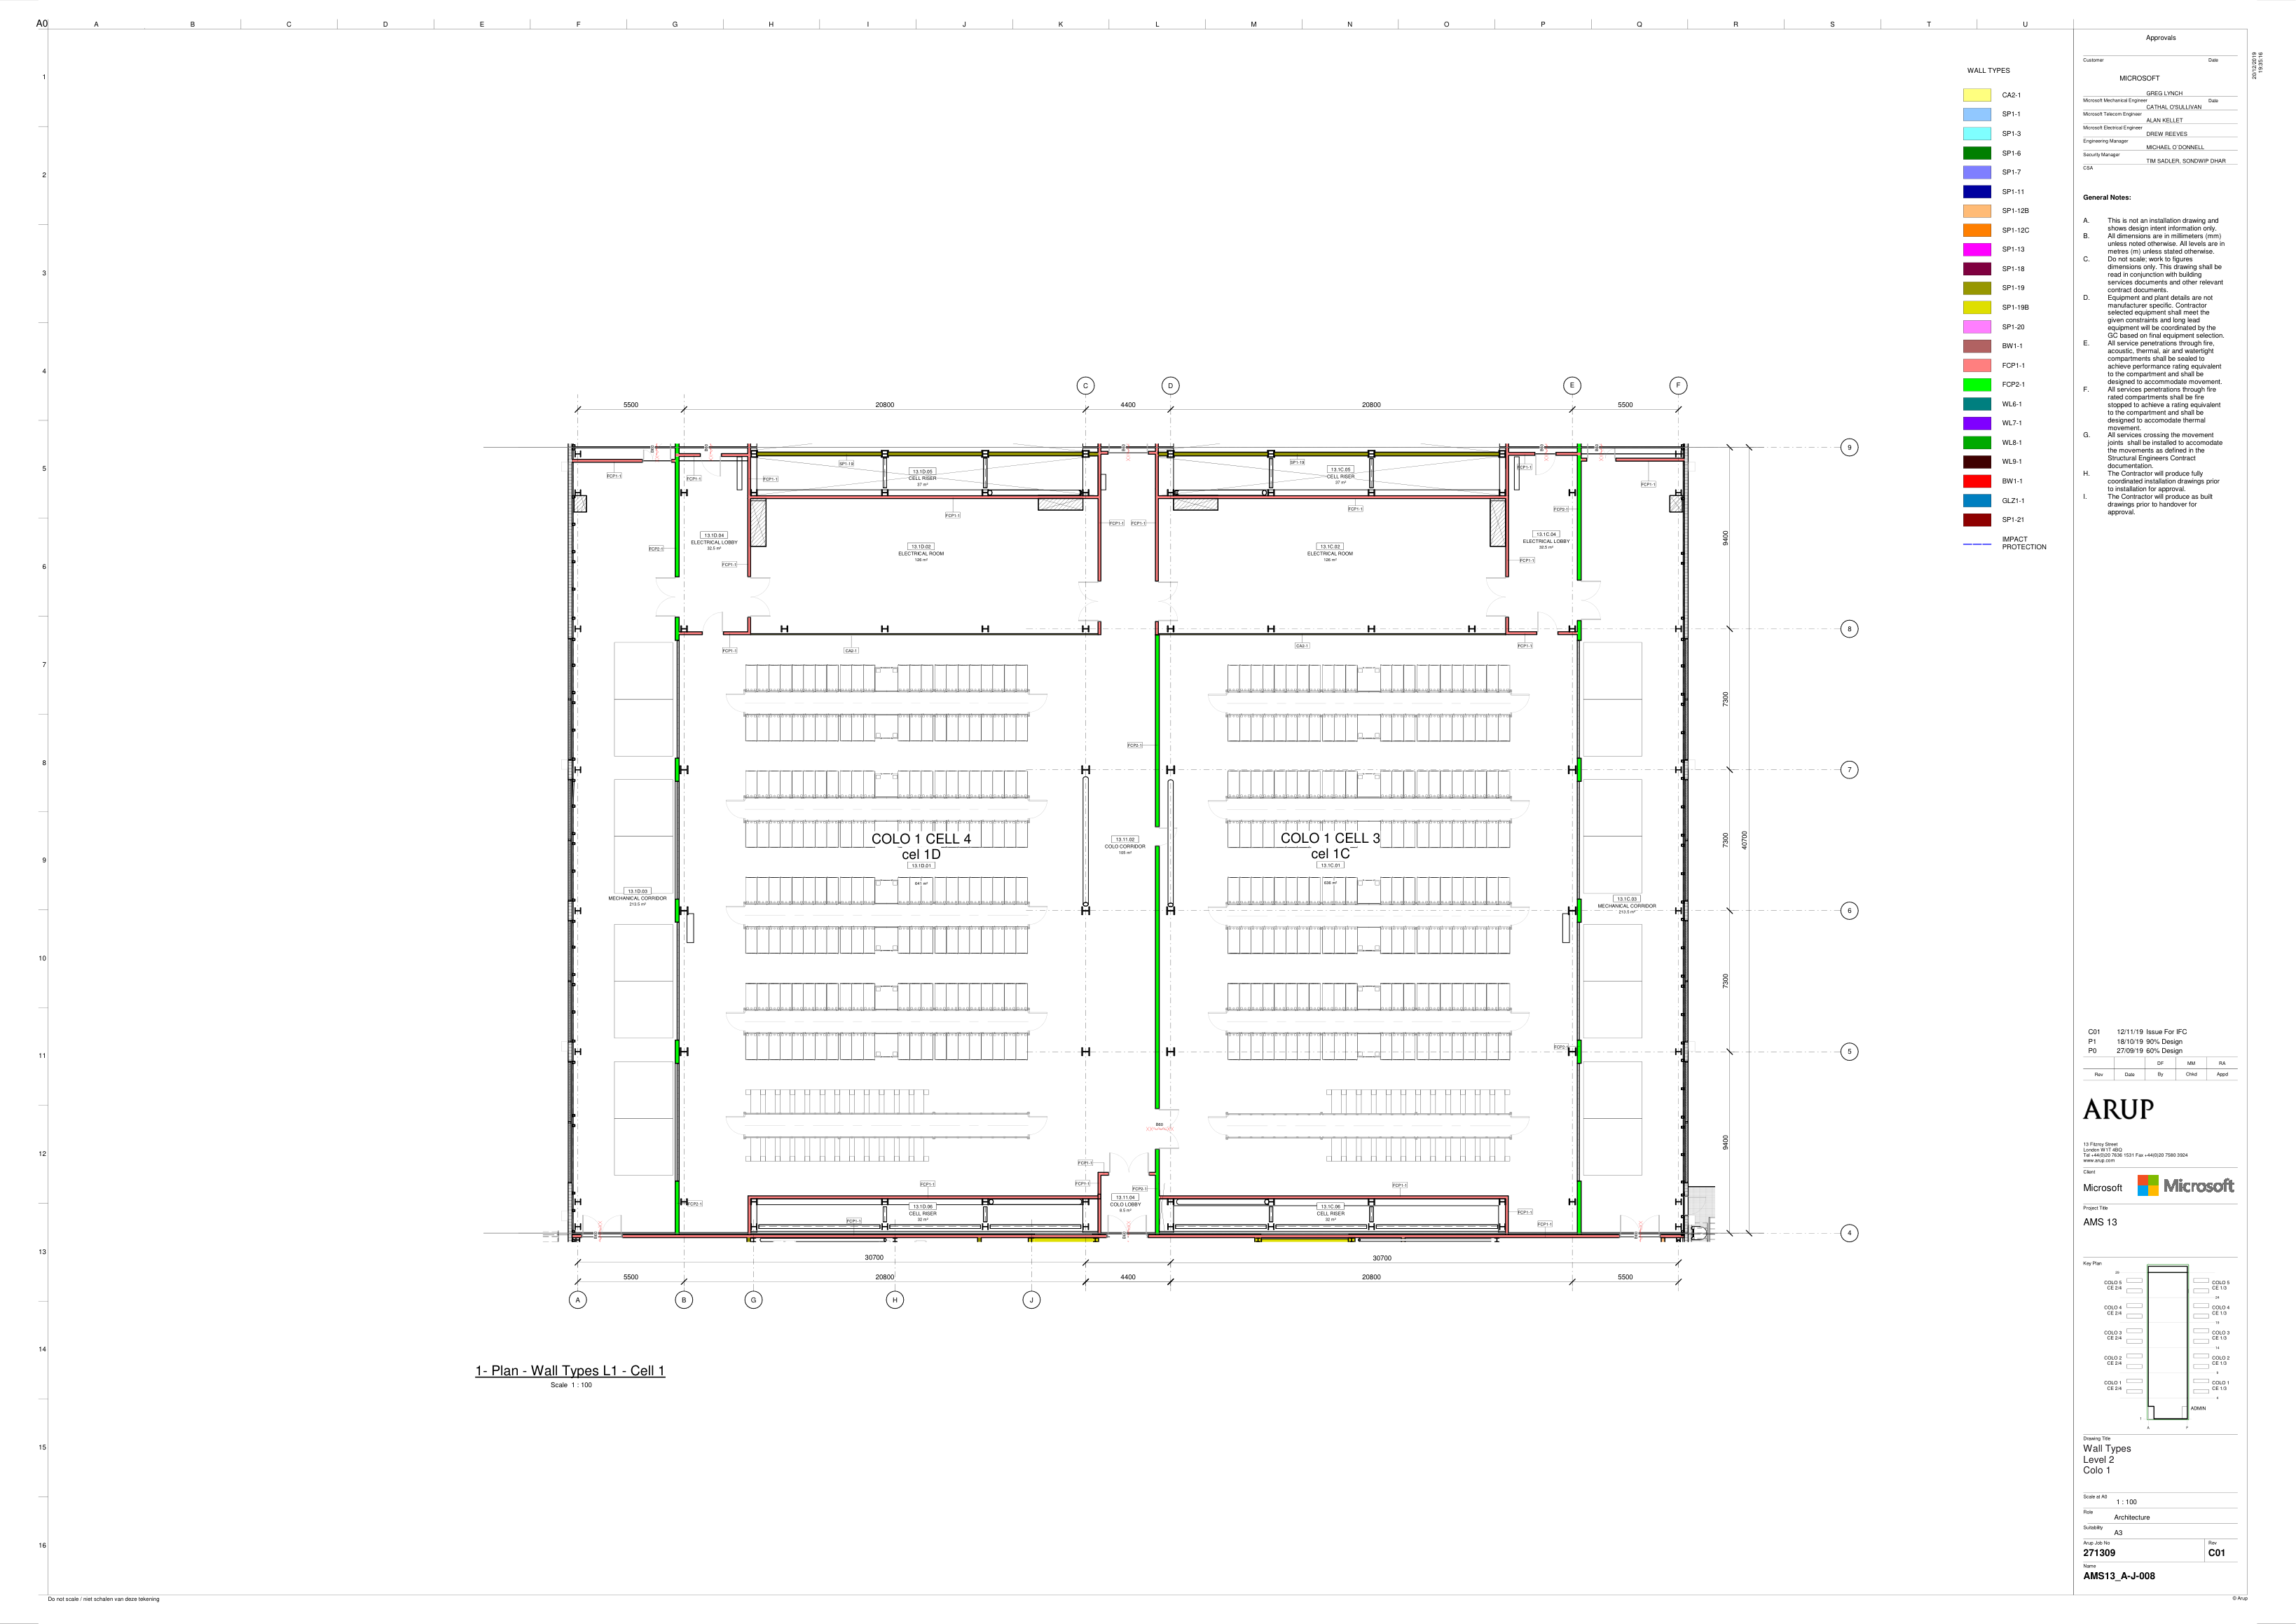Legend: (1955, 62, 2050, 554)
